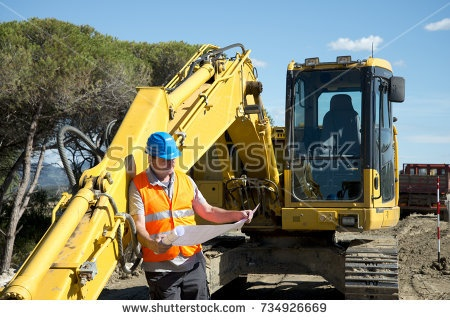blue: (146, 130, 178, 177)
